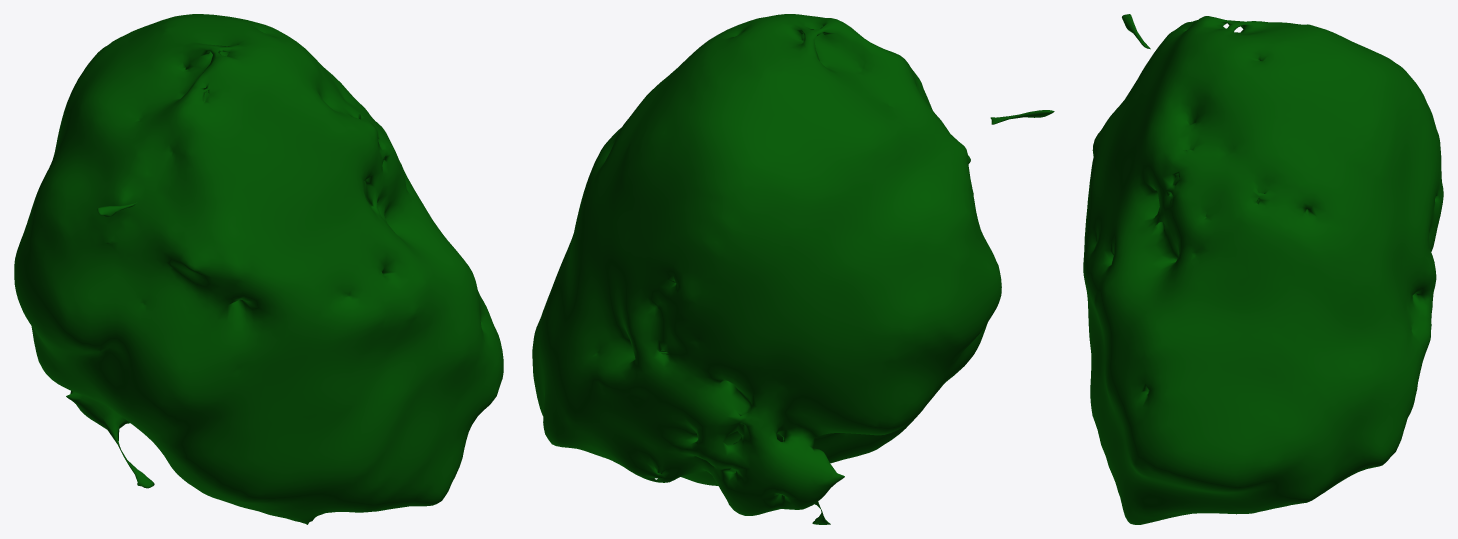
File: Lesion.obj
The picture shows the model from 3 angles, left to right: view 1: azimuth 30°, elevation 25°; view 2: azimuth 150°, elevation 25°; view 3: azimuth 270°, elevation 25°; orthographic projection. The views are drawn at different scales.
Visible parts, largest first — view 1: grp1; view 2: grp1; view 3: grp1.
Boxes of the visible parts, <box> form: grp1: <box>14,14,503,524</box>; grp1: <box>532,14,1054,524</box>; grp1: <box>1083,14,1443,524</box>.
Bounding box in the file's own units: 42.3 × 42.86 × 32.36.
